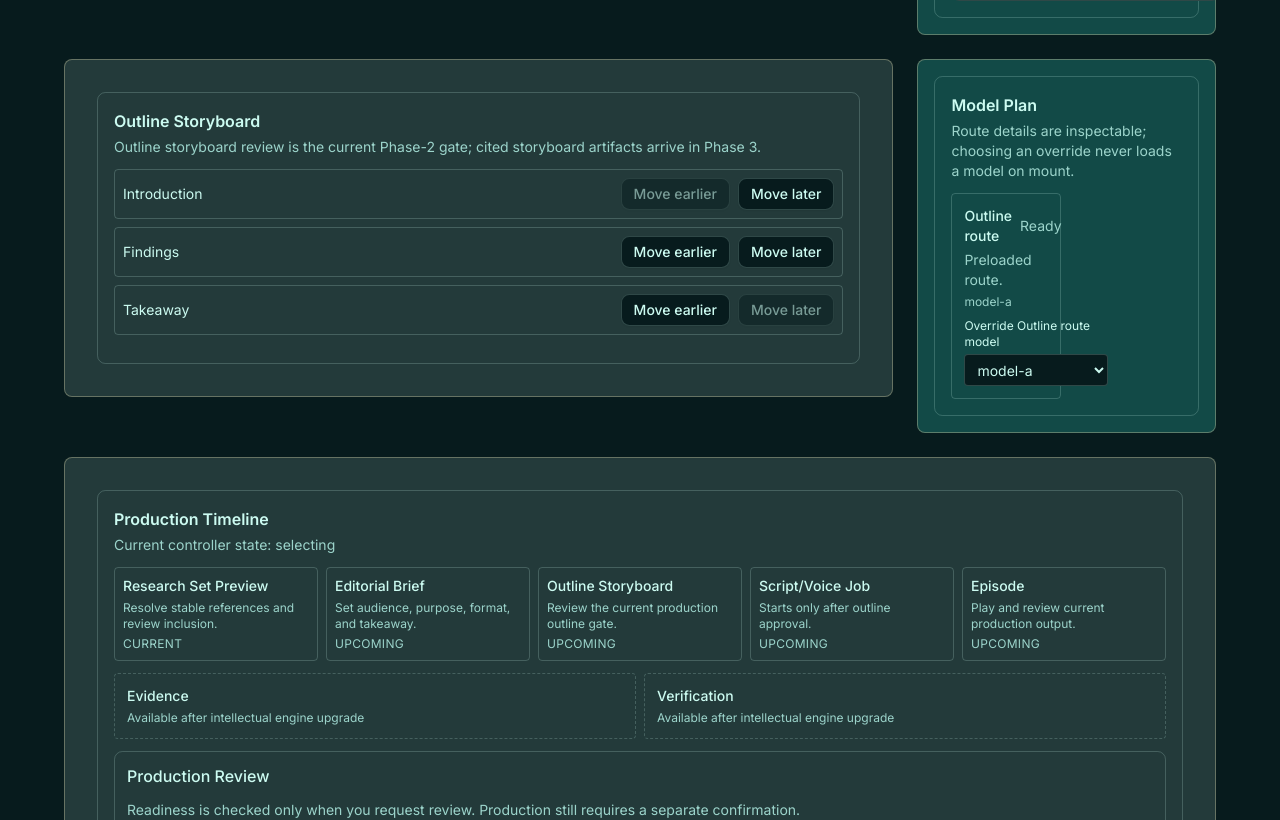
it: PodcastStudio › does not surface an error from an invalidated deferred readiness request
(page scrolled)
Select "model-a" in the dropdown labelled "Override Outline route model" at (1036, 370), box [964, 354, 1108, 386]
(page scrolled)
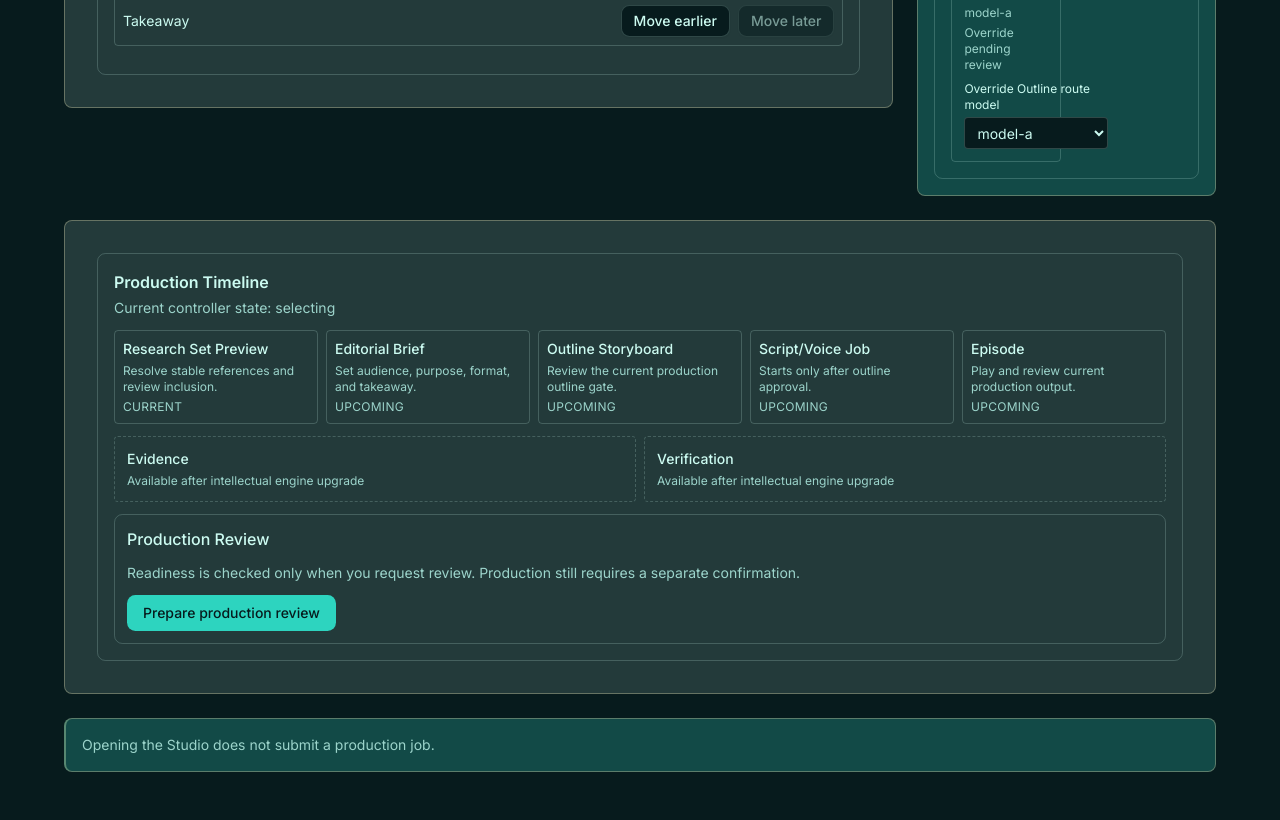
Click the button "Prepare production review" at (231, 613), box [127, 595, 336, 631]
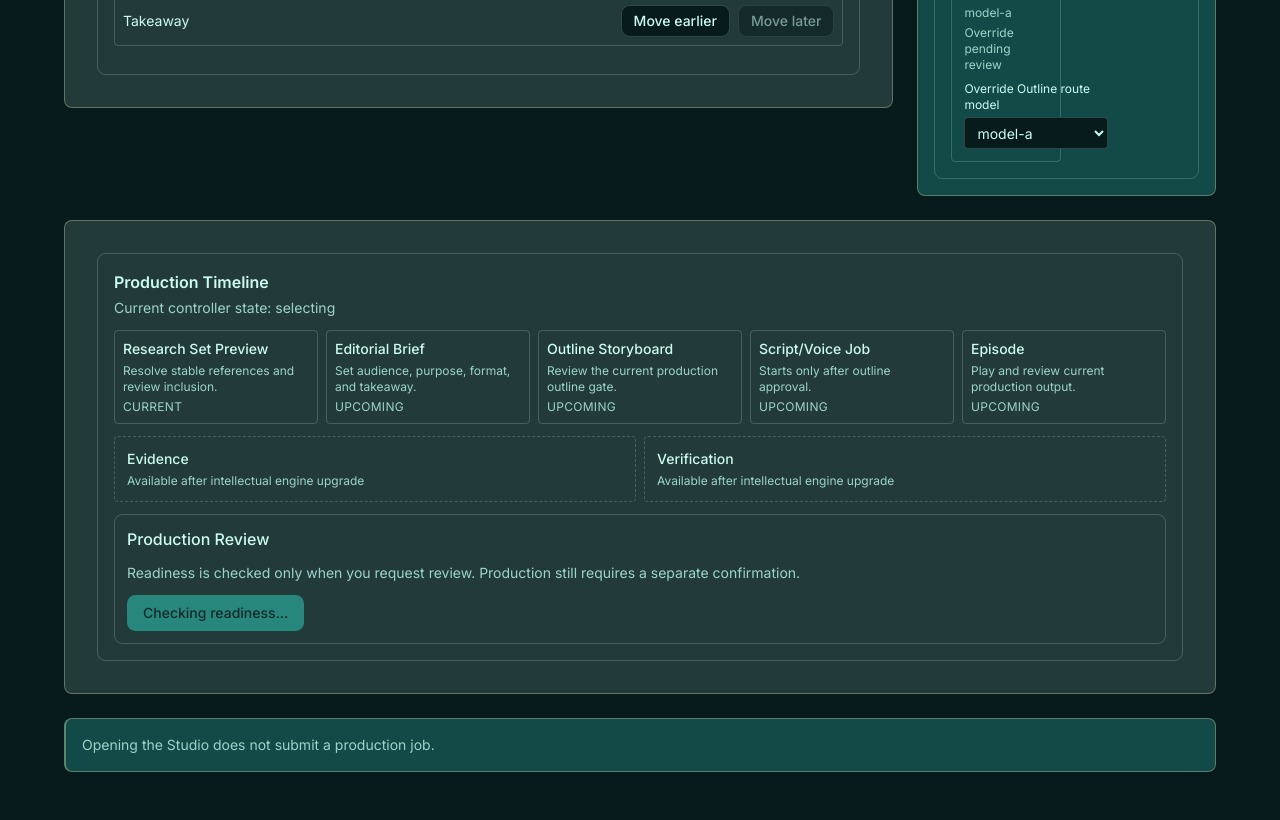
Select "model-b" in the dropdown labelled "Override Outline route model" at (1036, 133), box [964, 117, 1108, 149]
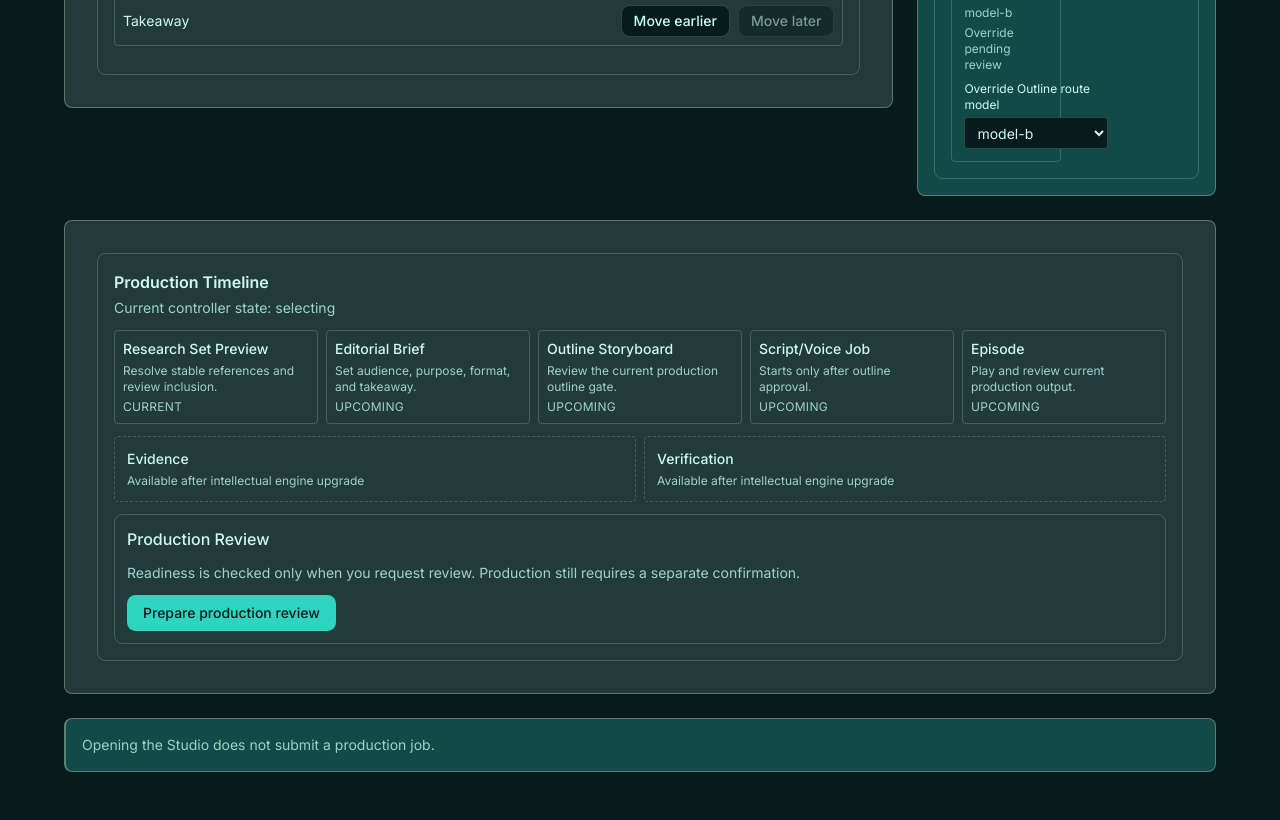
Check: the button "Prepare production review" is enabled, box [127, 595, 336, 631]
